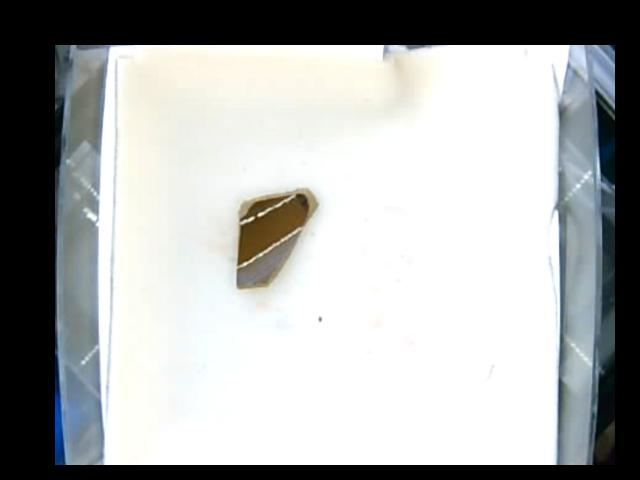China: (237, 185, 320, 289)
